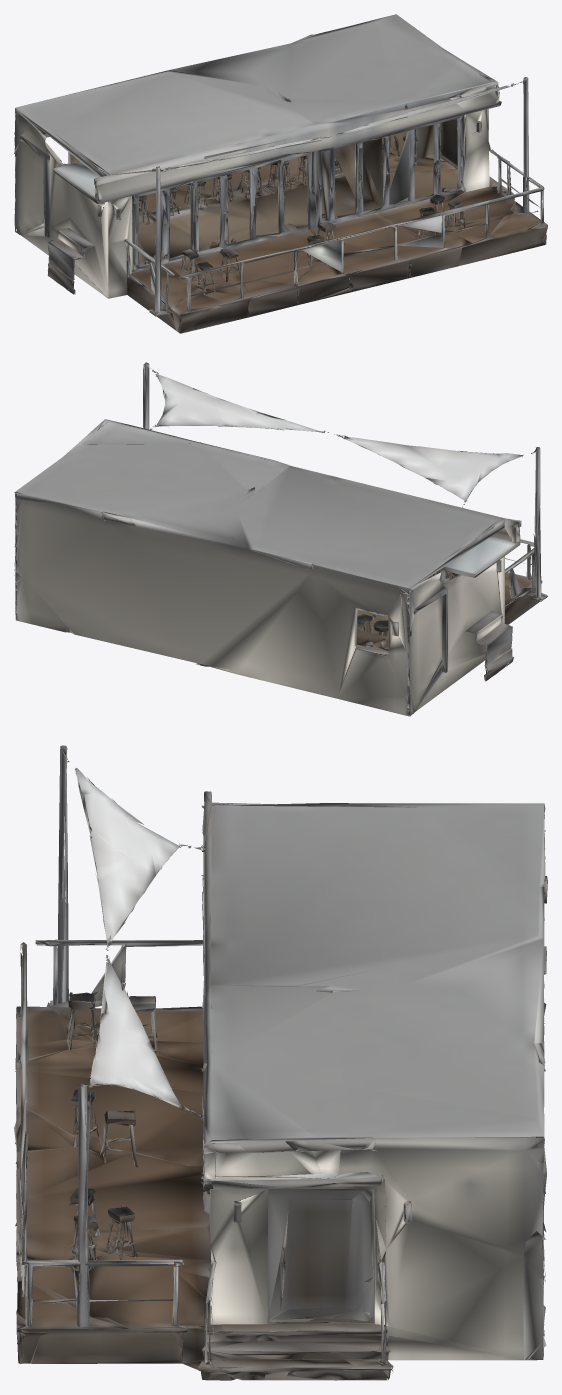
File: flightdeck.glb
3 renders of one model, top to bottom at view 1: azimuth 30°, elevation 25°; view 2: azimuth 150°, elevation 25°; view 3: azimuth 270°, elevation 25°, orthographic. The views are drawn at different scales.
Parts seen in each view (by area): view 1: LO.001; view 2: LO.001; view 3: LO.001.
Boxes of the visible parts, x1,y1,x2,y2 form: LO.001: [14, 14, 547, 333]; LO.001: [14, 362, 547, 716]; LO.001: [14, 745, 547, 1380].
Bounding box in the file's own units: 20.02 × 7.18 × 12.04.
1 material, 1 textured.
